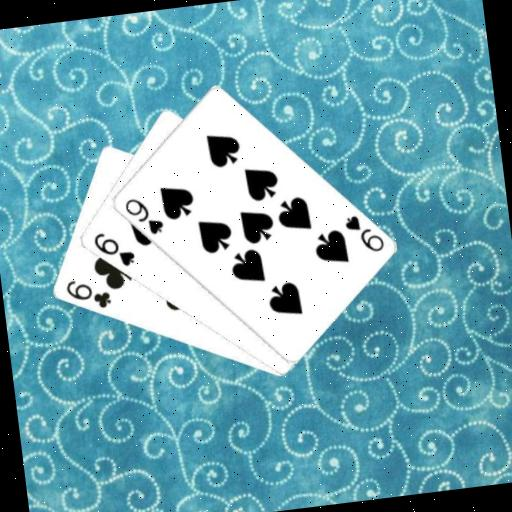6C: (61, 273, 114, 315)
6S: (89, 226, 138, 272)
9S: (340, 210, 387, 258), (121, 192, 166, 240)
